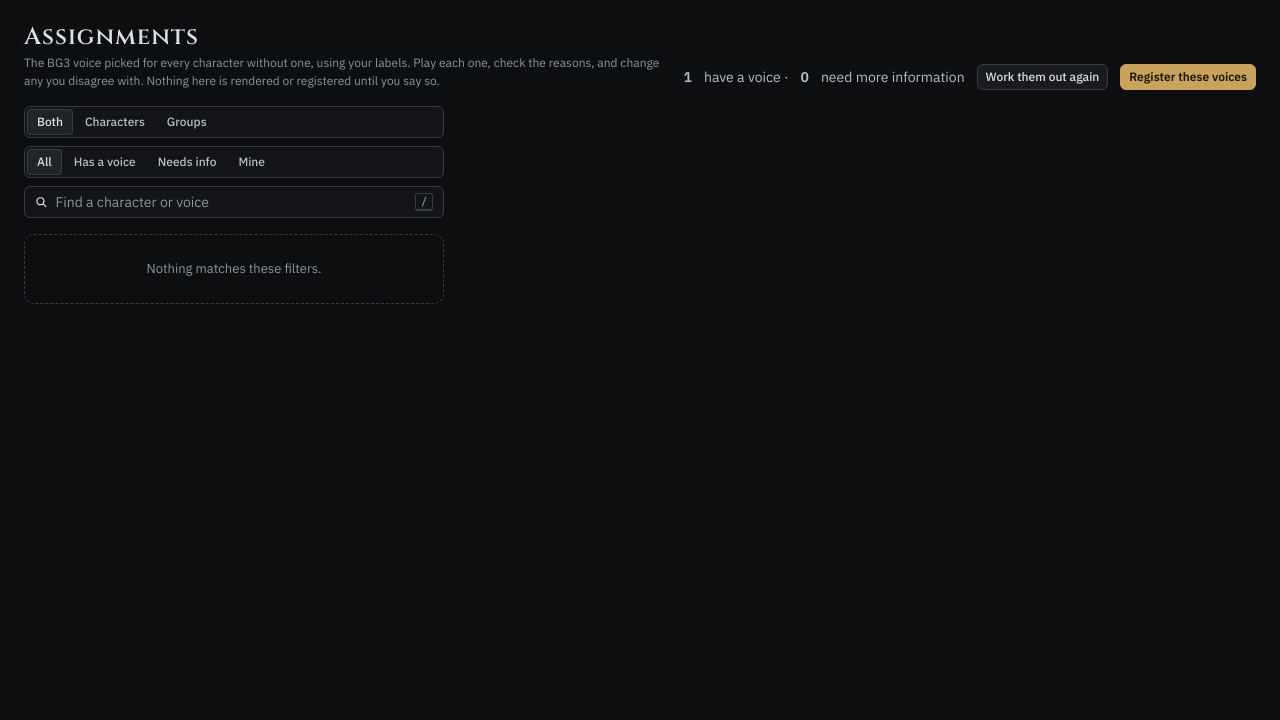
Test case: Assignments register flow › the button shows the preview and the skipped list; nothing is written until confirmed
Click the button "Register these voices". click: {"x": 1188, "y": 77}
box: [1120,64,1256,90]
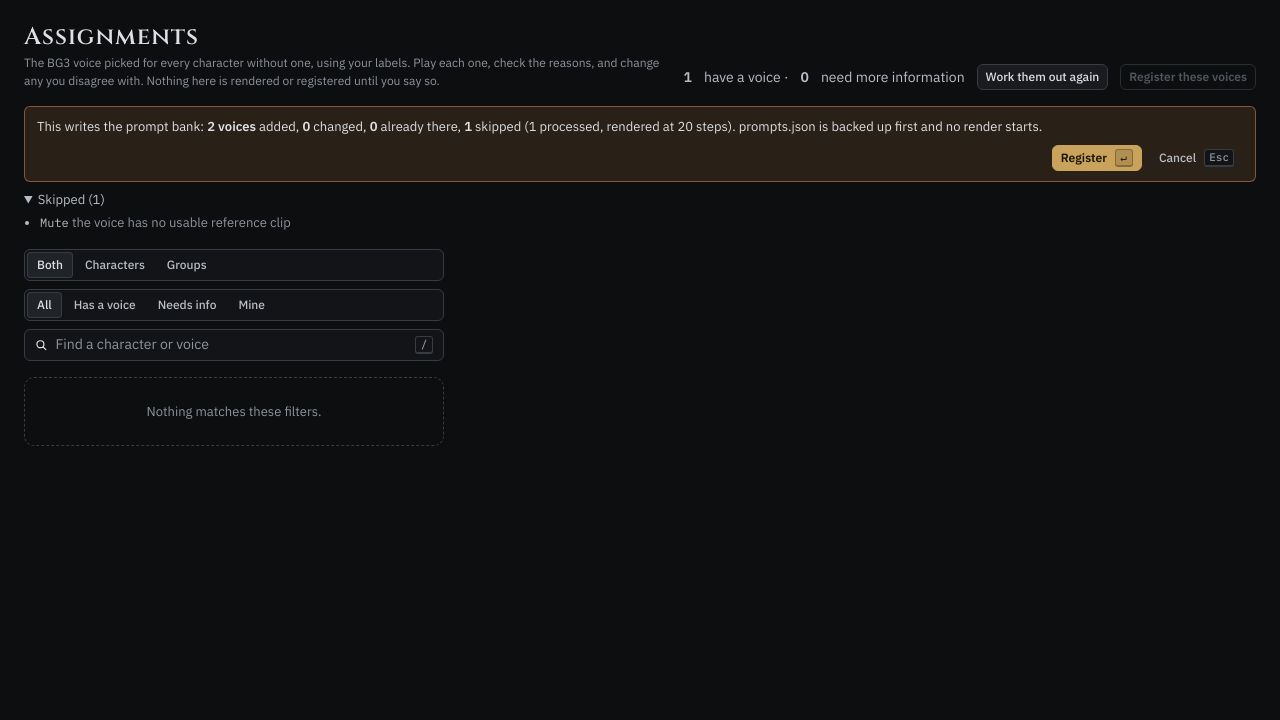
expect the element that starts with "This writes the prompt bank:" is shown: met, box [37,118,207,135]
expect the element that starts with "This writes the prompt bank:" shows "Mute": met, box [40,215,69,230]
expect the element that starts with "This writes the prompt bank:" shows "no usable reference clip": met, box [72,214,291,231]
